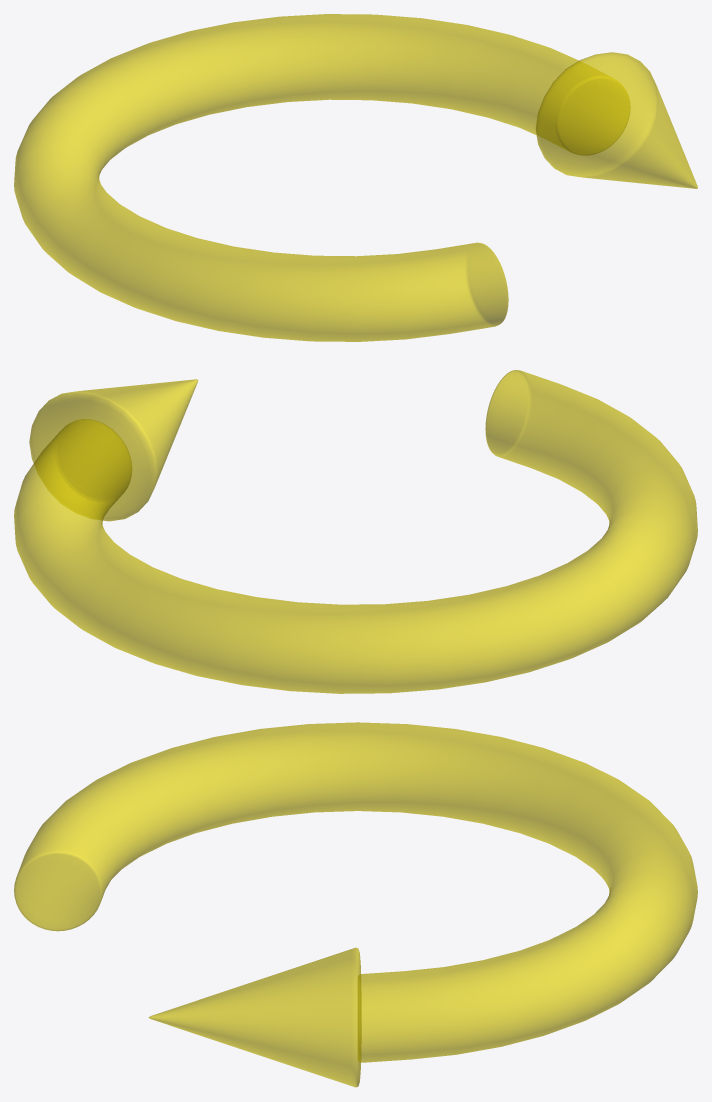
File: arrow_trans_circle.fbx
The picture shows the model from 3 angles, top to bottom: view 1: azimuth 30°, elevation 25°; view 2: azimuth 150°, elevation 25°; view 3: azimuth 270°, elevation 25°; orthographic projection. The views are drawn at different scales.
Visible parts, largest first — view 1: pCone7; view 2: pCone7; view 3: pCone7.
Boxes of the visible parts, x1,y1,x2,y2 form: pCone7: [14, 14, 697, 341]; pCone7: [14, 370, 697, 693]; pCone7: [14, 722, 697, 1087].
Bounding box in the file's own units: 6.62 × 1.28 × 6.33.
